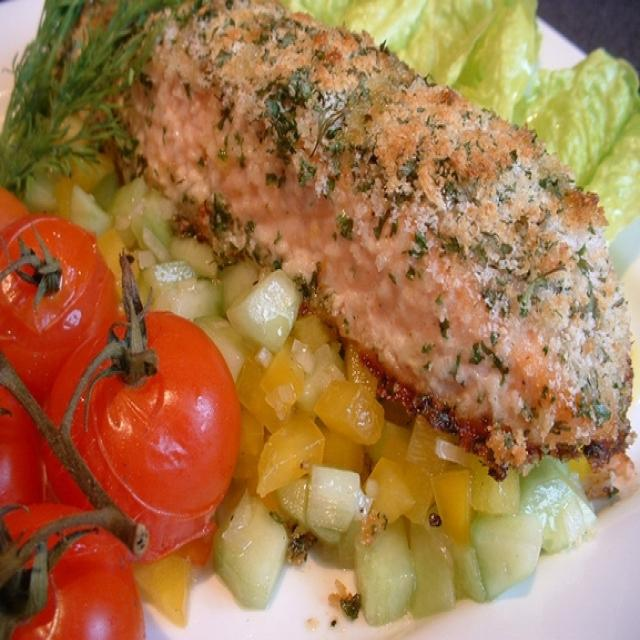熟制海鲜: (11, 10, 618, 624)
